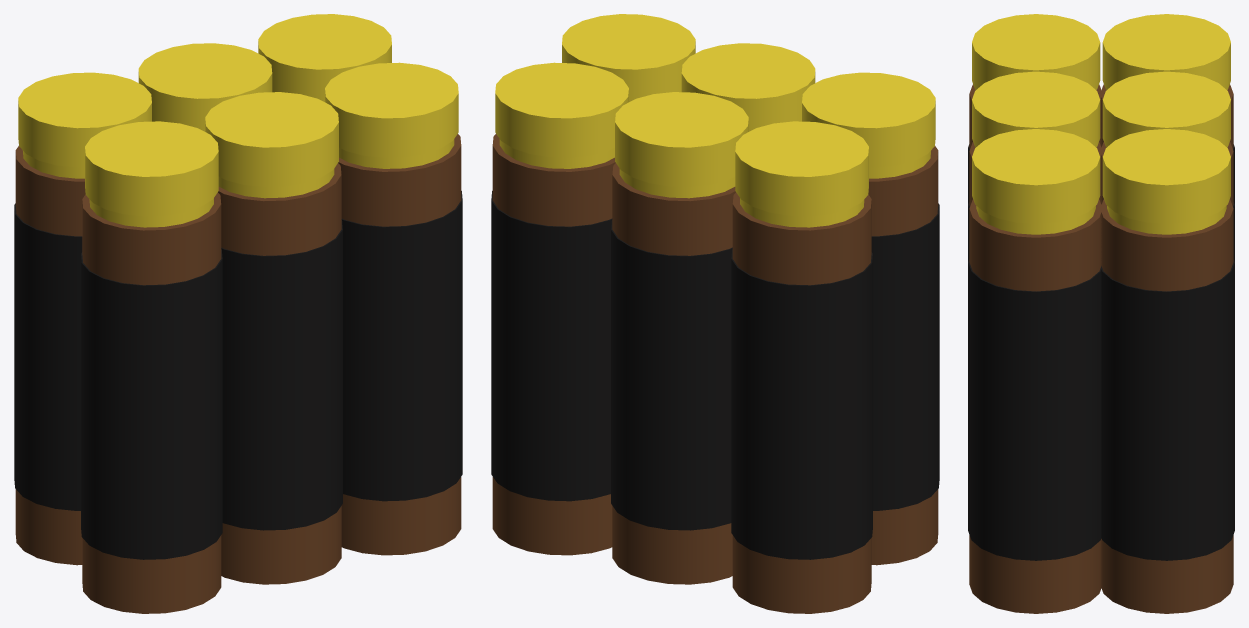
File: bullets.fbx
3 views of the same model, side by side, from view 1: azimuth 30°, elevation 25°; view 2: azimuth 150°, elevation 25°; view 3: azimuth 270°, elevation 25° (orthographic).
Parts seen in each view (by area): view 1: pCylinder11; view 2: pCylinder11; view 3: pCylinder11.
Boxes of the visible parts, box(x1,y1,x2,y2) form: pCylinder11: box(14, 14, 462, 613); pCylinder11: box(491, 14, 939, 613); pCylinder11: box(968, 14, 1234, 613).
Bounding box in the file's own units: 0.0851 × 0.0972 × 0.055.
